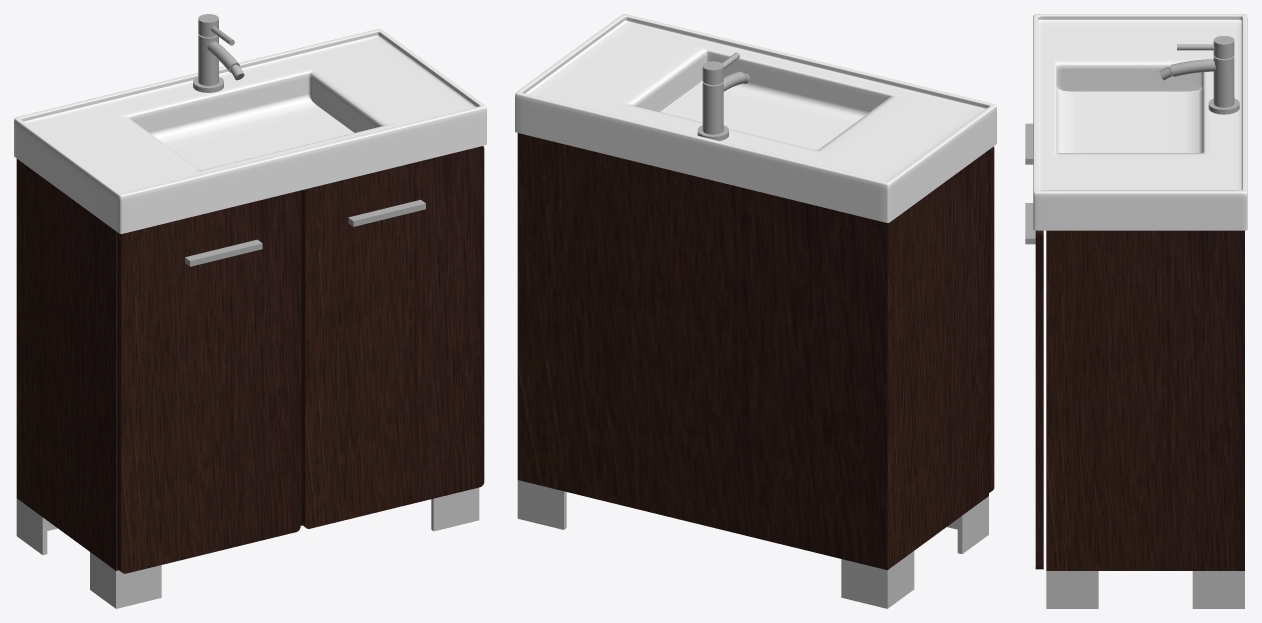
The model's file is mobilettoLavaboWenge.obj.
3 views of the same model, side by side, from view 1: azimuth 30°, elevation 25°; view 2: azimuth 150°, elevation 25°; view 3: azimuth 270°, elevation 25° (orthographic). The views are drawn at different scales.
Parts seen in each view (by area): view 1: Rectangle01_5, Rectangle10_4, Rectangle09_9, Box01_6, Line02_10, Line03_3, Line05_7, Cylinder14_18, Box12_8, Box02_1; view 2: Box01_6, Rectangle09_9, Line05_7, Rectangle01_5, Line04_2, Line02_10, Cylinder14_18; view 3: Box01_6, Rectangle09_9, Rectangle10_4, Line04_2, Line03_3, Cylinder14_18, Cylinder11_14, Cylinder09_12, Box12_8, Box02_1.
Part boxes in pixels (x1,y1,x2,y2): Rectangle01_5: (117, 191, 300, 573); Rectangle10_4: (301, 146, 484, 528); Rectangle09_9: (14, 29, 486, 233); Box01_6: (16, 159, 302, 570); Line02_10: (90, 552, 161, 608); Line03_3: (431, 487, 479, 531); Line05_7: (16, 498, 57, 554); Cylinder14_18: (198, 34, 218, 85); Box12_8: (348, 199, 425, 226); Box02_1: (185, 239, 262, 266); Box01_6: (517, 133, 988, 570); Rectangle09_9: (515, 14, 996, 222); Line05_7: (841, 551, 914, 608); Rectangle01_5: (989, 146, 994, 492); Line04_2: (517, 480, 566, 529); Line02_10: (947, 496, 988, 553); Cylinder14_18: (702, 81, 723, 134); Box01_6: (1046, 230, 1244, 570); Rectangle09_9: (1033, 14, 1247, 230); Rectangle10_4: (1035, 230, 1043, 569); Line04_2: (1192, 571, 1244, 608); Line03_3: (1046, 571, 1098, 608); Cylinder14_18: (1213, 55, 1234, 107); Cylinder11_14: (1170, 59, 1215, 76); Cylinder09_12: (1213, 35, 1234, 58); Box12_8: (1025, 203, 1035, 244); Box02_1: (1025, 123, 1033, 164).
Bounding box in the file's own units: 81 × 101 × 42.5.
